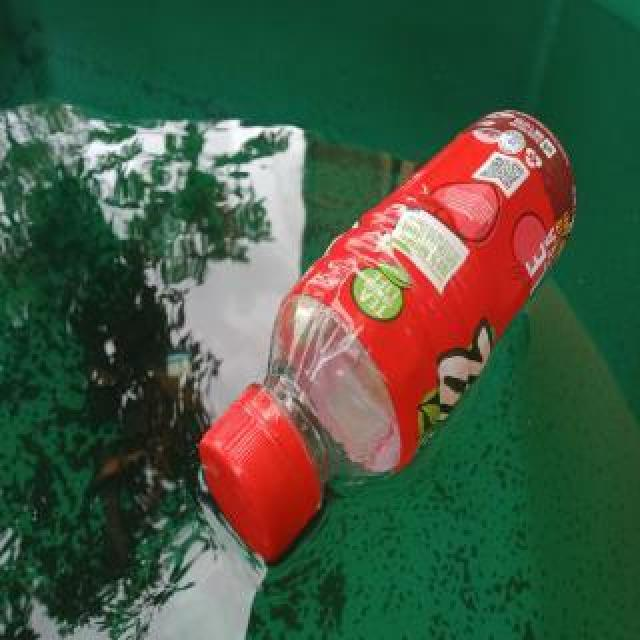bottle: (195, 103, 581, 563)
